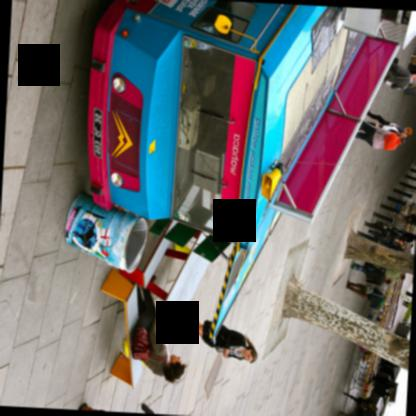handbag: (129, 326, 166, 362), (382, 66, 411, 83), (364, 282, 383, 298), (364, 262, 376, 270)
